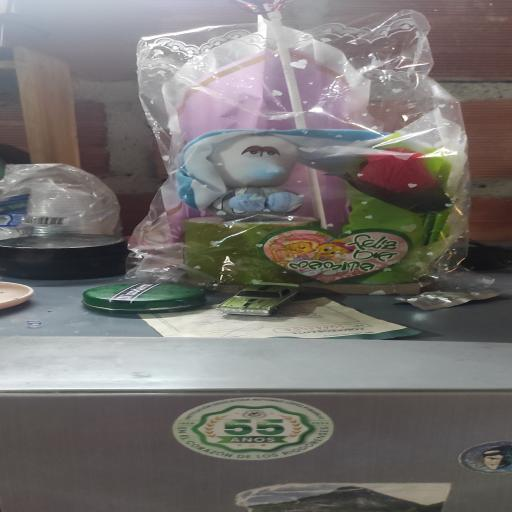Carrito: (217, 282, 302, 316)
